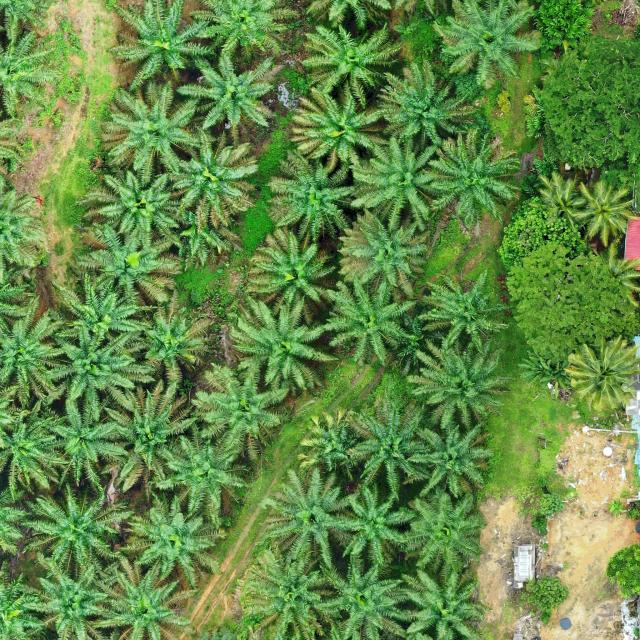0: (228, 290, 340, 394), (21, 479, 136, 578), (101, 377, 199, 491), (255, 464, 363, 564), (105, 1, 216, 90), (264, 145, 364, 242), (287, 83, 385, 180), (434, 0, 543, 87), (74, 222, 186, 306), (407, 337, 506, 432), (44, 318, 158, 400), (190, 360, 290, 451), (314, 553, 418, 640), (125, 490, 218, 587), (160, 129, 258, 221), (348, 133, 438, 233), (100, 84, 198, 174), (173, 49, 278, 133), (350, 390, 434, 494), (251, 227, 339, 325), (371, 65, 477, 146), (319, 276, 413, 366), (128, 287, 215, 384), (153, 426, 251, 512), (429, 130, 522, 220), (39, 390, 131, 480), (90, 556, 188, 640), (338, 207, 429, 297), (301, 18, 403, 96), (0, 396, 77, 499), (331, 486, 417, 578), (50, 276, 158, 349), (72, 167, 182, 237), (396, 564, 493, 640), (400, 489, 487, 573), (420, 269, 509, 351), (407, 420, 497, 498), (182, 1, 294, 63), (241, 546, 326, 626), (0, 292, 66, 395), (21, 564, 107, 640), (567, 335, 639, 410), (296, 408, 360, 486), (173, 208, 244, 272), (574, 178, 636, 248), (518, 342, 576, 400), (530, 173, 588, 225)
tree: (506, 239, 640, 358), (539, 34, 640, 171), (497, 195, 594, 269)
